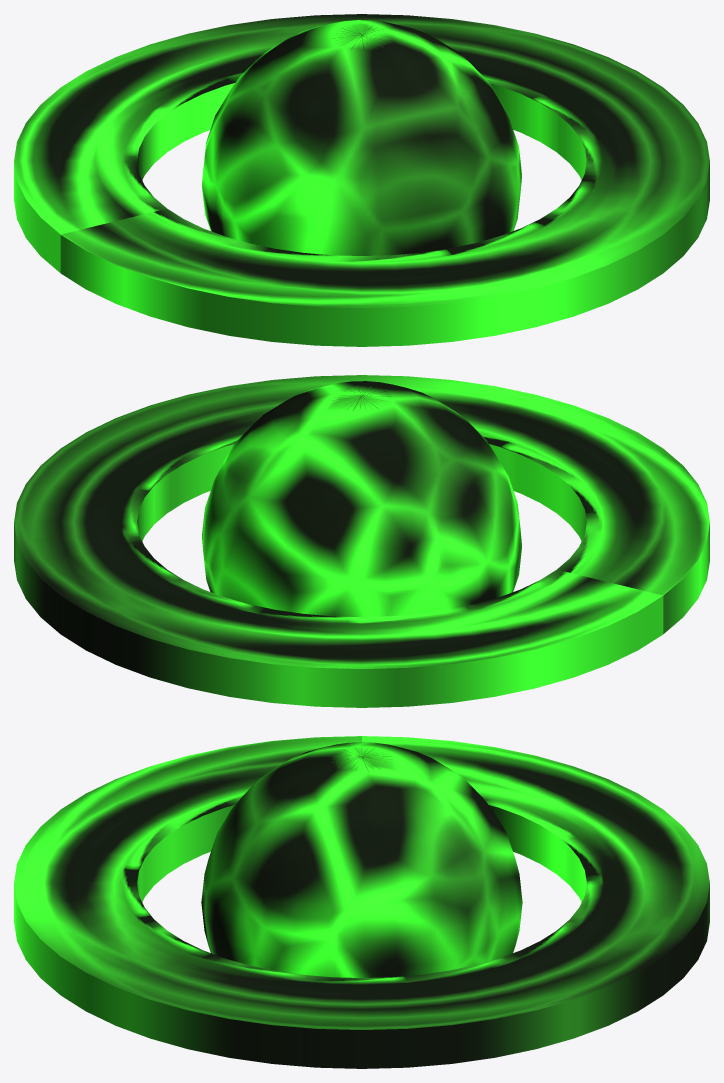
File: item-6-8.glb
The picture shows the model from 3 angles, top to bottom: view 1: azimuth 30°, elevation 25°; view 2: azimuth 150°, elevation 25°; view 3: azimuth 270°, elevation 25°; orthographic projection.
Parts seen in each view (by area): view 1: plat, planet; view 2: plat, planet; view 3: plat, planet.
Part boxes in pixels (bbox=[...]): plat: bbox=[14, 14, 709, 346]; planet: bbox=[202, 20, 521, 255]; plat: bbox=[14, 375, 709, 707]; planet: bbox=[202, 381, 521, 616]; plat: bbox=[14, 736, 709, 1068]; planet: bbox=[201, 742, 522, 977].
Size of the model in its own units: 1.3 by 0.6 by 1.3.
Materials: 2 (2 with a texture image).
